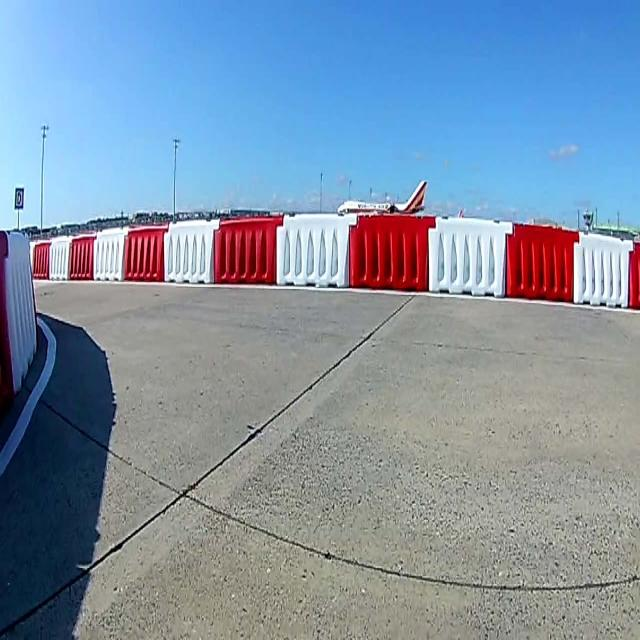durak: (14, 188, 24, 208)
